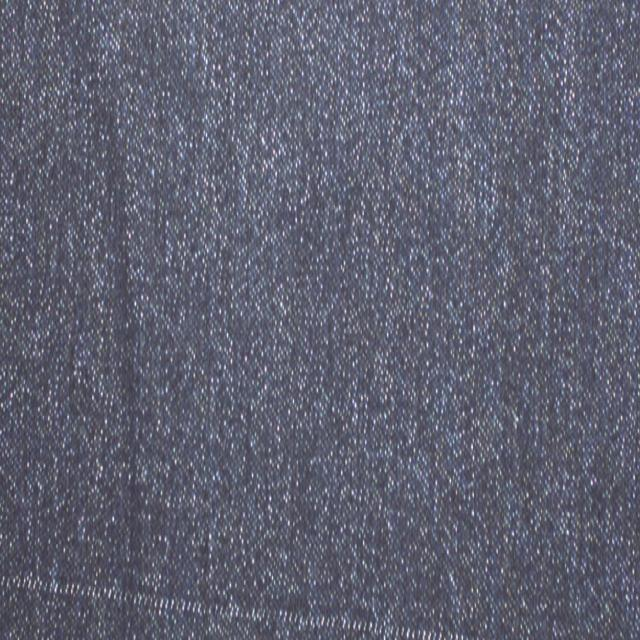Line: (0, 570, 478, 640)
